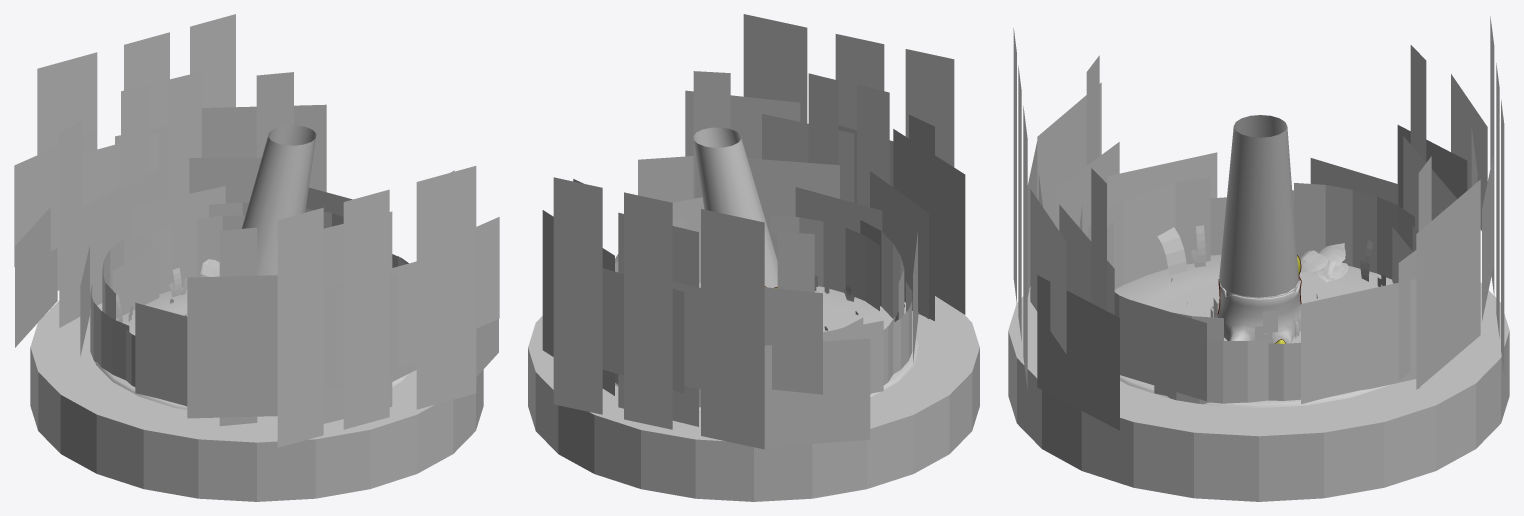
File: Froggs2.fbx
3 views of the same model, side by side, from view 1: azimuth 30°, elevation 25°; view 2: azimuth 150°, elevation 25°; view 3: azimuth 270°, elevation 25° (orthographic). The views are drawn at different scales.
Visible parts, largest first — view 1: Background, Base, Light; view 2: Background, Base, Light; view 3: Background, Base, Light, Stump, Leaf_2.001, Leaft_3.
Boxes of the visible parts, x1,y1,x2,y2 form: Background: [14, 14, 499, 447]; Base: [30, 287, 483, 501]; Light: [241, 125, 316, 275]; Background: [542, 14, 965, 449]; Base: [528, 283, 979, 501]; Light: [693, 127, 777, 287]; Background: [1013, 16, 1504, 430]; Base: [1008, 254, 1509, 501]; Light: [1219, 115, 1298, 297]; Stump: [1217, 275, 1301, 343]; Leaf_2.001: [1300, 243, 1348, 282]; Leaft_3: [1157, 227, 1187, 275].
Size of the model in its own units: 1360 by 957 by 1360.
